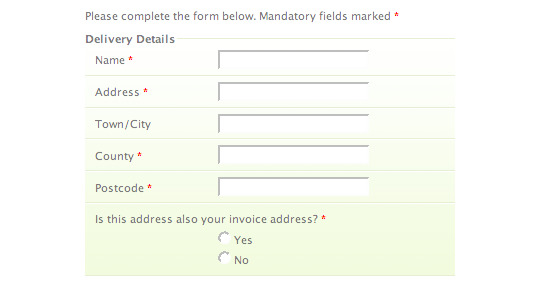_form_: (1, 1, 416, 283)
field: (215, 144, 371, 167), (216, 112, 371, 135), (217, 48, 371, 71), (216, 81, 372, 103), (216, 176, 371, 198)
field_with_label: (94, 110, 373, 138), (95, 46, 373, 73), (94, 79, 374, 104), (94, 143, 373, 168), (94, 174, 373, 199)
radio: (216, 248, 233, 269), (216, 229, 231, 248)
radio_with_label: (213, 227, 255, 249), (213, 246, 249, 271)
